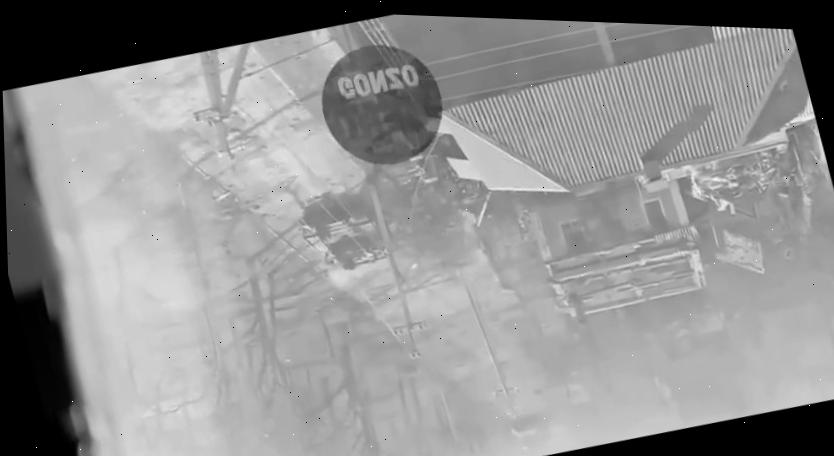tank: (297, 190, 401, 280)
